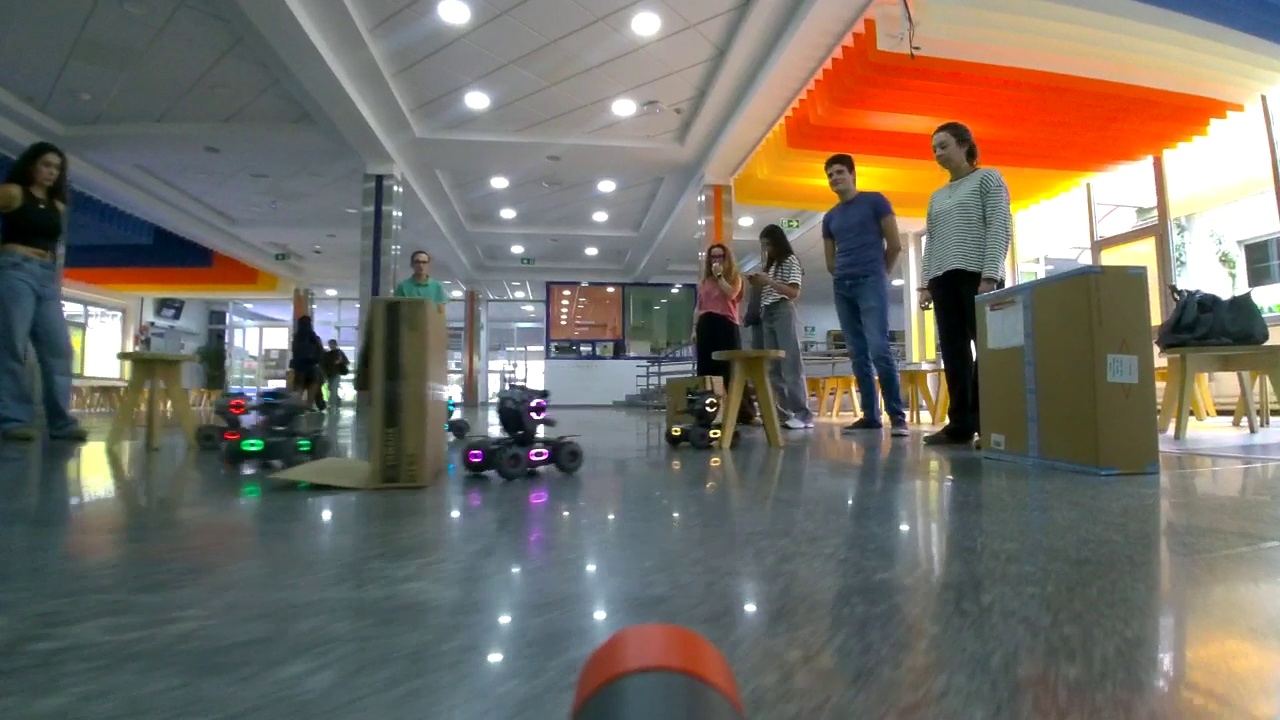robot: (463, 387, 582, 471), (666, 388, 742, 445)
